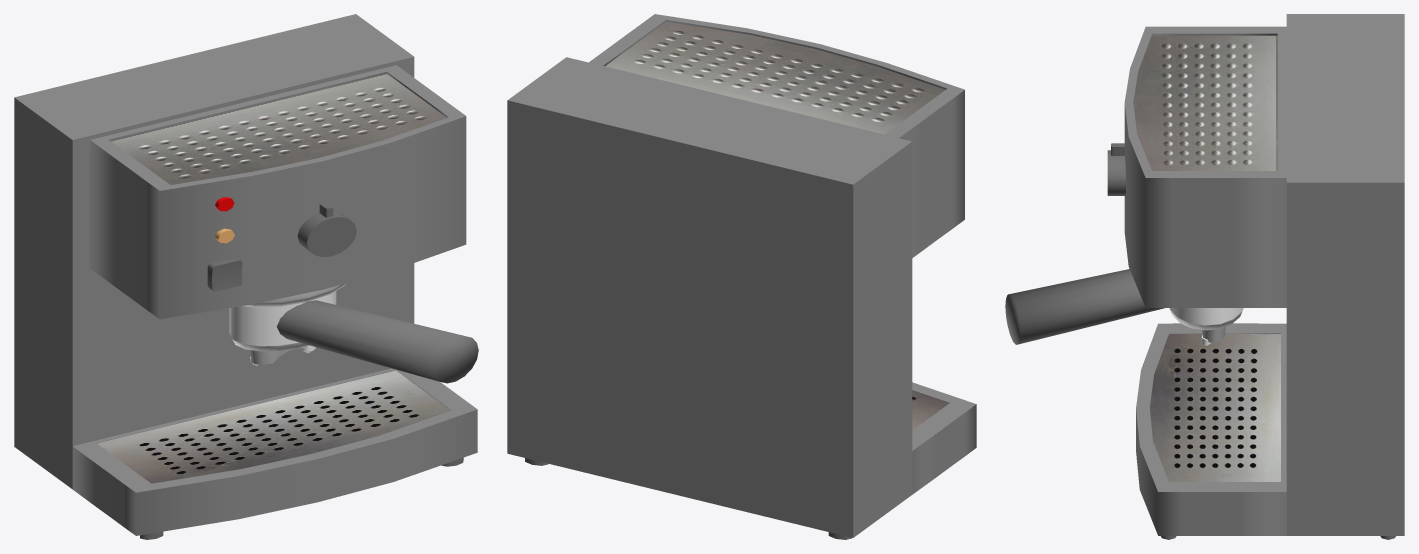
The model's file is sh-contrib-percolateur.glb.
The picture shows the model from 3 angles, left to right: view 1: azimuth 30°, elevation 25°; view 2: azimuth 150°, elevation 25°; view 3: azimuth 270°, elevation 25°; orthographic projection.
Parts seen in each view (by area): view 1: Boolean_1, Cube_1, grille, plaque, object 2, Cylinder_11; view 2: Cube_1, plaque, Boolean_1, grille; view 3: Cube_1, Boolean_1, plaque, grille, object 2, Cylinder_11.
Boxes of the visible parts, left/top/right/bottom form: Boolean_1: left=72, top=65, right=477, bottom=535; Cube_1: left=14, top=14, right=414, bottom=489; grille: left=97, top=370, right=450, bottom=483; plaque: left=111, top=73, right=446, bottom=184; object 2: left=140, top=202, right=478, bottom=539; Cylinder_11: left=229, top=283, right=346, bottom=365; Cube_1: left=507, top=57, right=912, bottom=537; plaque: left=605, top=21, right=945, bottom=134; Boolean_1: left=589, top=14, right=976, bottom=494; grille: left=912, top=390, right=949, bottom=430; Cube_1: left=1286, top=14, right=1404, bottom=535; Boolean_1: left=1124, top=26, right=1286, bottom=535; plaque: left=1133, top=35, right=1277, bottom=170; grille: left=1150, top=334, right=1280, bottom=481; object 2: left=1005, top=143, right=1395, bottom=539; Cylinder_11: left=1169, top=308, right=1243, bottom=345.
Size of the model in its own units: 1 by 1 by 1.
Materials: 8 (2 with a texture image).
